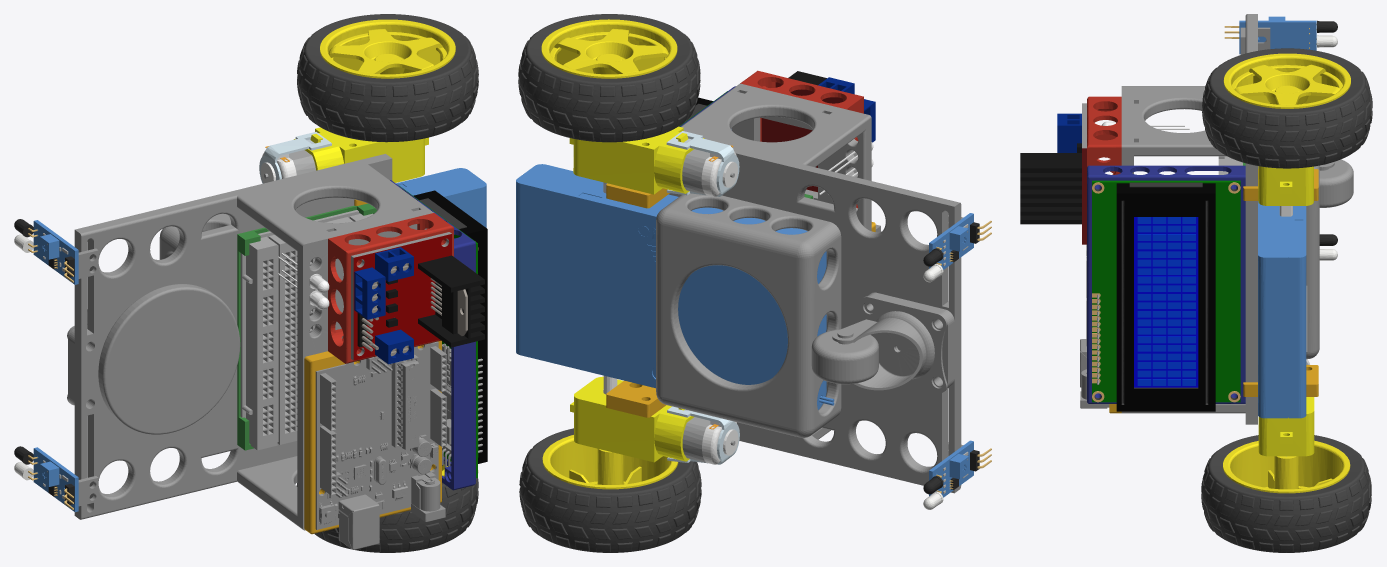
Rendered from chassis.glb.
3 views of the same model, side by side, from view 1: azimuth 30°, elevation 25°; view 2: azimuth 150°, elevation 25°; view 3: azimuth 270°, elevation 25° (orthographic). The views are drawn at different scales.
Visible parts, largest first — view 1: #A0A0A0, #4A4A4A, #B3B3B3, #FFEE22, #5995DA, #C43527, #303B96, #990404, #121212, #012B93, #FFFA1B, #E8AD23 (+7 smaller); view 2: #A0A0A0, #5995DA, #4A4A4A, #FFFA1B, #FFEE22, #E8AD23, #E0F3FD, #C43527, #F5F5F4, #ADAEAE, #7C1212, #2C2C2C (+1 smaller); view 3: #4A4A4A, #A0A0A0, #5995DA, #040404, #008000, #FFEE22, #0042FF, #303B96, #0000FF, #FFFA1B, #121212, #C43527 (+7 smaller).
Part boxes in pixels (x1,y1,x2,y2): #A0A0A0: (47,153,482,549); #4A4A4A: (296,14,478,552); #B3B3B3: (240,210,373,450); #FFEE22: (320,19,455,476); #5995DA: (33,168,486,512); #C43527: (328,213,453,363); #303B96: (390,180,475,490); #990404: (353,234,451,360); #121212: (357,255,484,347); #012B93: (354,247,413,364); #FFFA1B: (294,127,428,182); #E8AD23: (304,199,441,534); #A0A0A0: (656,83,967,493); #5995DA: (516,164,973,497); #4A4A4A: (518,14,701,552); #FFFA1B: (569,126,704,462); #FFEE22: (541,19,678,489); #E8AD23: (606,183,875,417); #E0F3FD: (666,131,739,464); #C43527: (740,70,863,208); #F5F5F4: (701,151,738,464); #ADAEAE: (682,149,735,462); #7C1212: (761,82,842,191); #2C2C2C: (923,222,979,494); #4A4A4A: (1201,48,1372,552); #A0A0A0: (1080,14,1353,424); #5995DA: (1239,16,1316,418); #040404: (1116,183,1215,411); #008000: (1092,180,1240,402); #FFEE22: (1223,53,1350,493); #0042FF: (1137,217,1195,385); #303B96: (1087,165,1245,403); #0000FF: (1134,217,1198,387); #FFFA1B: (1258,166,1314,456); #121212: (1020,143,1081,224); #C43527: (1087,96,1121,174).
Size of the model in its own units: 190 by 196 by 142.
